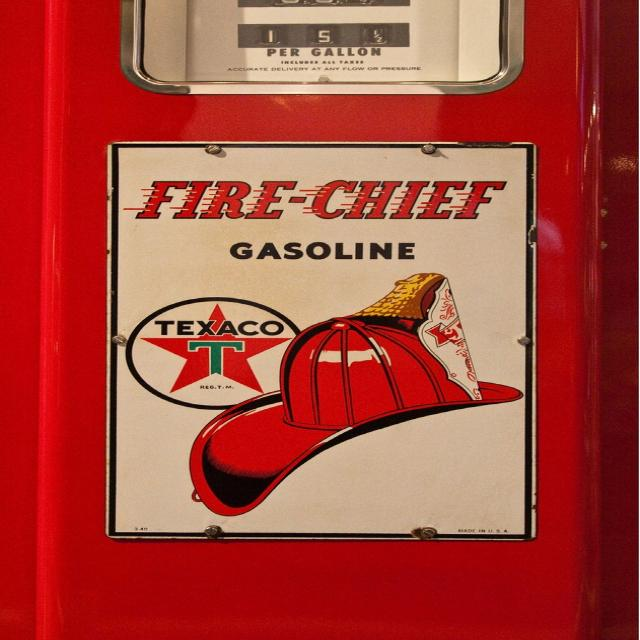texaco: (130, 299, 297, 408)
